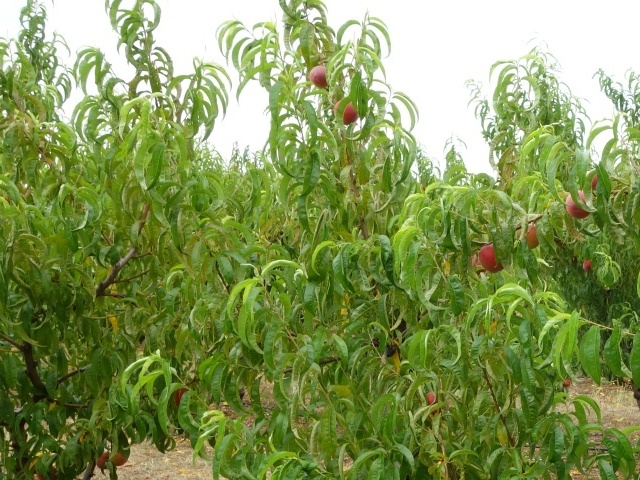peach: (474, 240, 511, 277), (557, 186, 595, 222), (332, 95, 360, 127), (516, 221, 544, 252), (306, 62, 334, 91), (107, 447, 130, 469), (91, 449, 111, 472)
